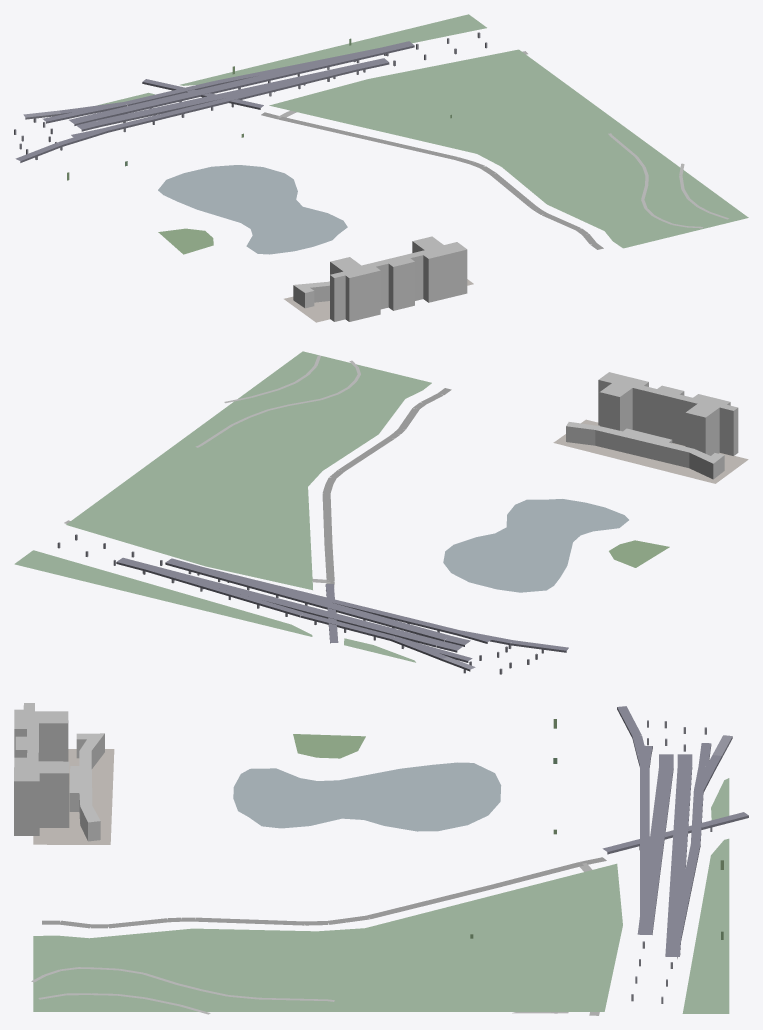
The picture shows the model from 3 angles, top to bottom: view 1: azimuth 30°, elevation 25°; view 2: azimuth 150°, elevation 25°; view 3: azimuth 270°, elevation 25°; orthographic projection. The views are drawn at different scales.
Size of the model in its own units: 516 by 46.01 by 528.
